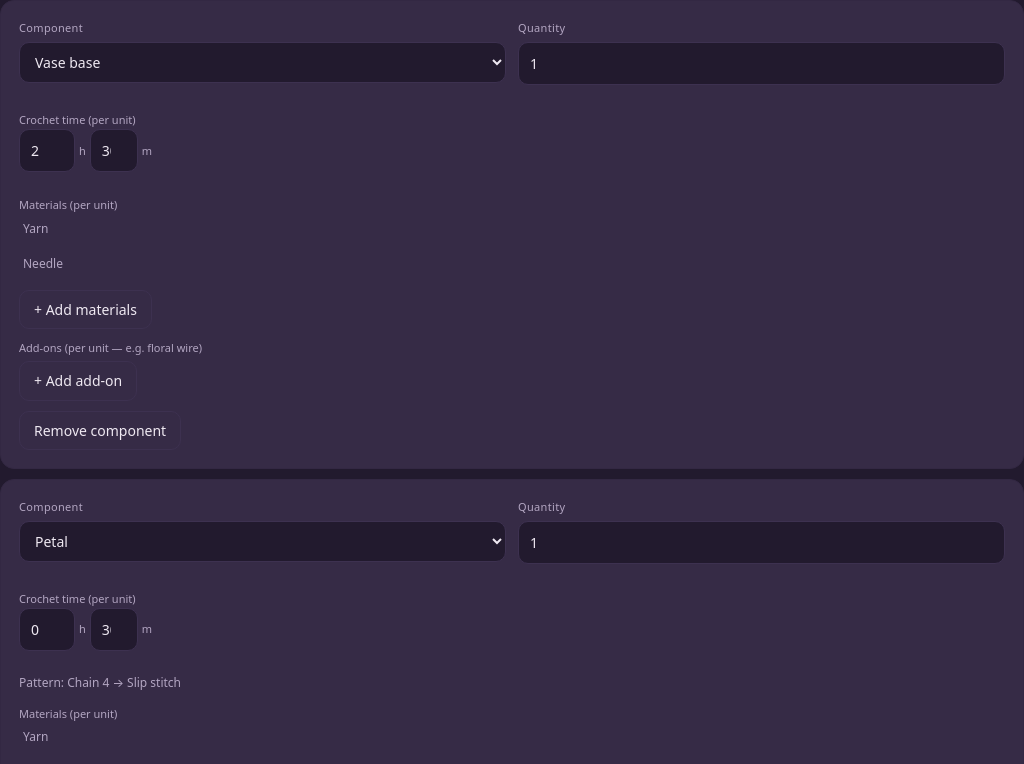
Scenario: ComponentsFields › Remove component drops only that component
This screenshot has width=1024, height=764.
Click the button with aria-label "remove component 1: vase base" at (100, 430), box [19, 410, 181, 450]
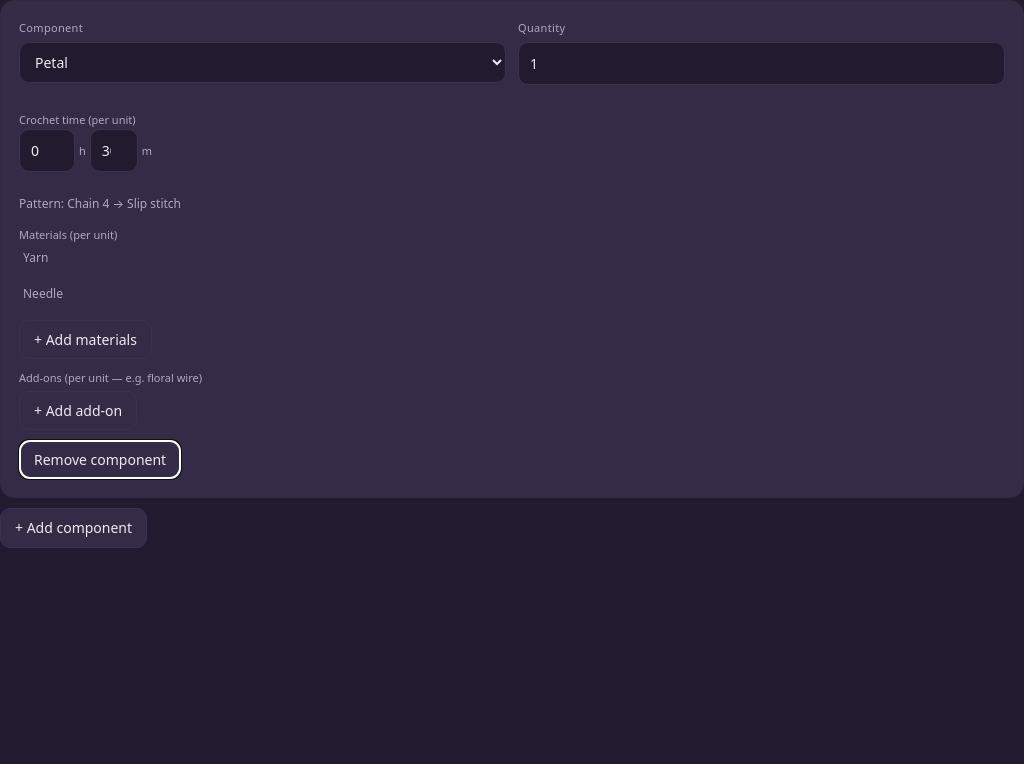
Check: the number of dropdowns labelled "Component" is 1, box [19, 42, 506, 83]
Check: the dropdown labelled "Component" shows "Petal", box [19, 42, 506, 83]
